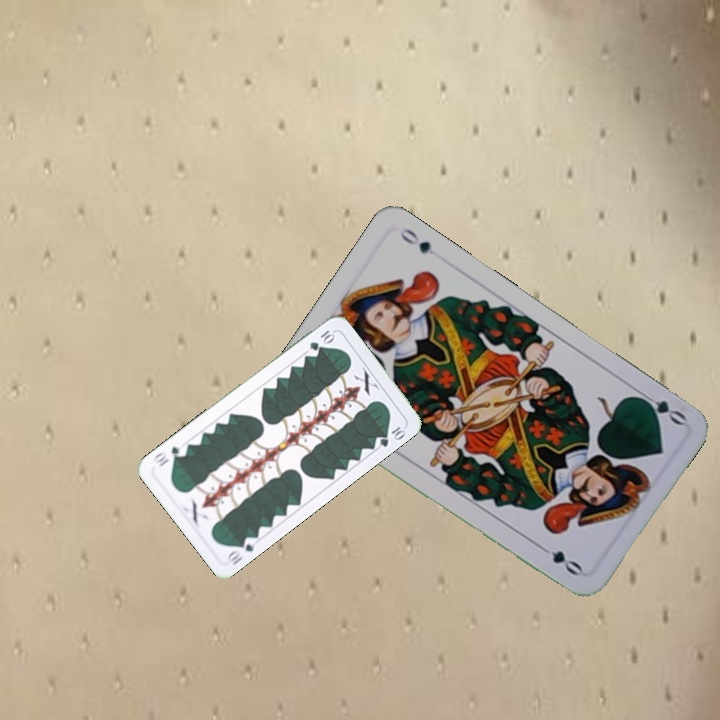G10: (223, 532, 260, 568), (305, 326, 337, 353)
GO: (632, 387, 689, 428)
